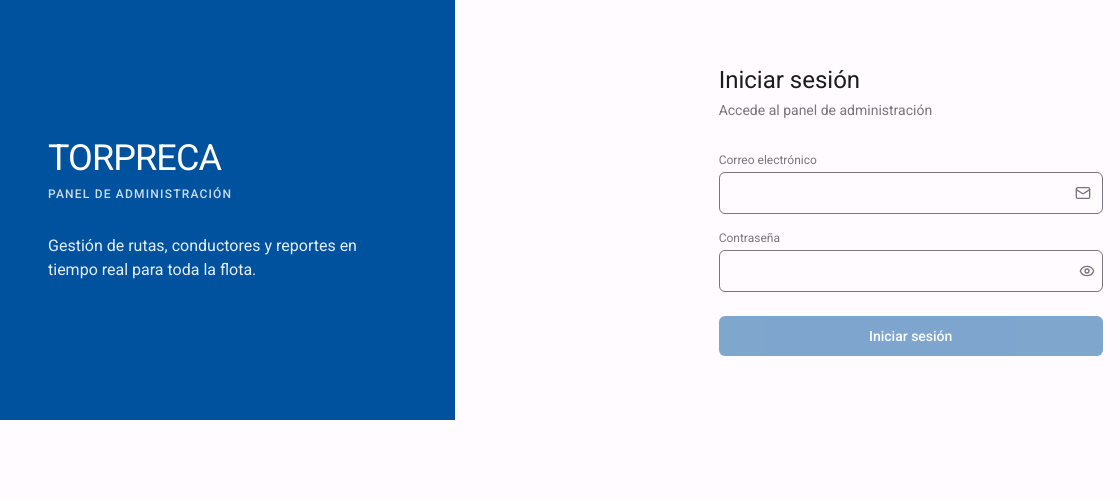
Test: LoginPage › shows an access error when the role is rejected (403)
The width and height of the screenshot is (1120, 499).
Type "driver@example.com" into the field labelled "Correo electrónico".
click(911, 193); type("driver@example.com")  # box [719,172,1103,214]
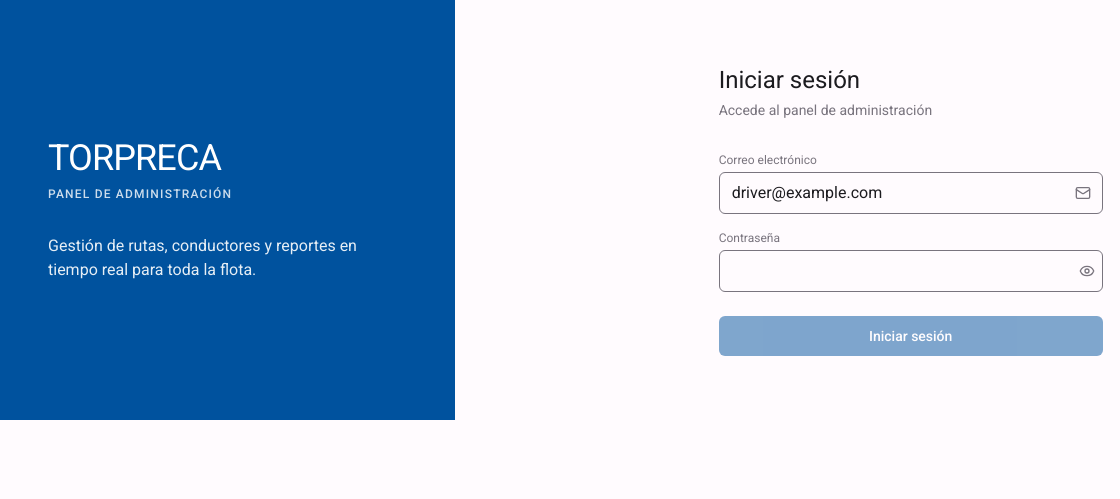
Type "correct" into the password field labelled "Contraseña".
click(911, 271); type("correct")  # box [719,250,1103,292]
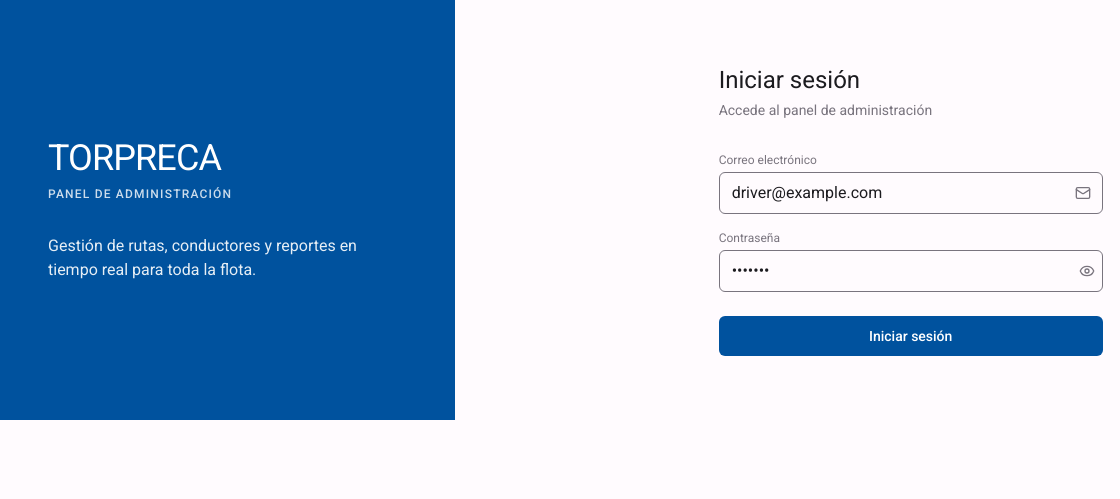
Now the button "Iniciar sesión" is enabled
Click the button "Iniciar sesión".
click(911, 336)  # box [719,316,1103,356]
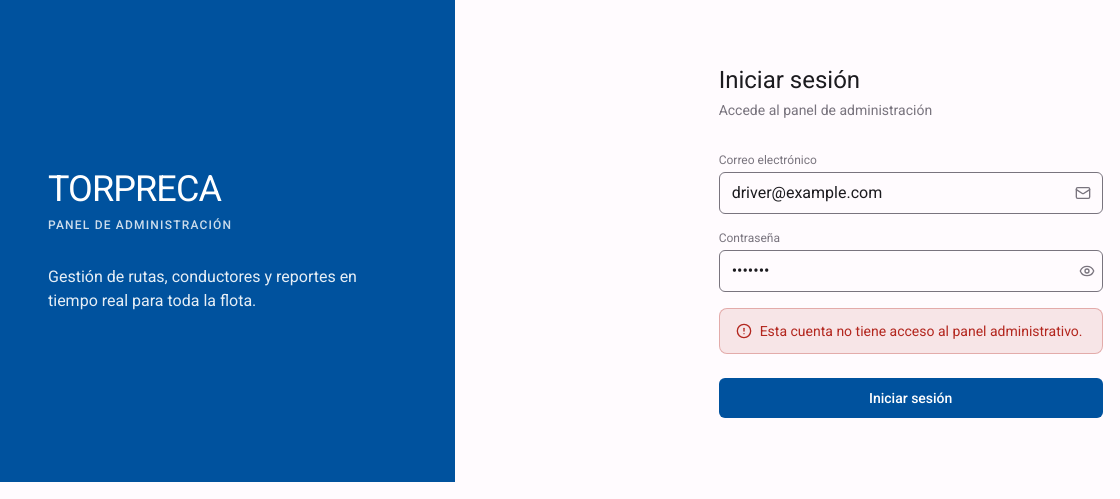
Now the message shows "no tiene acceso al panel administrativo", box [760,323,1083,339]
